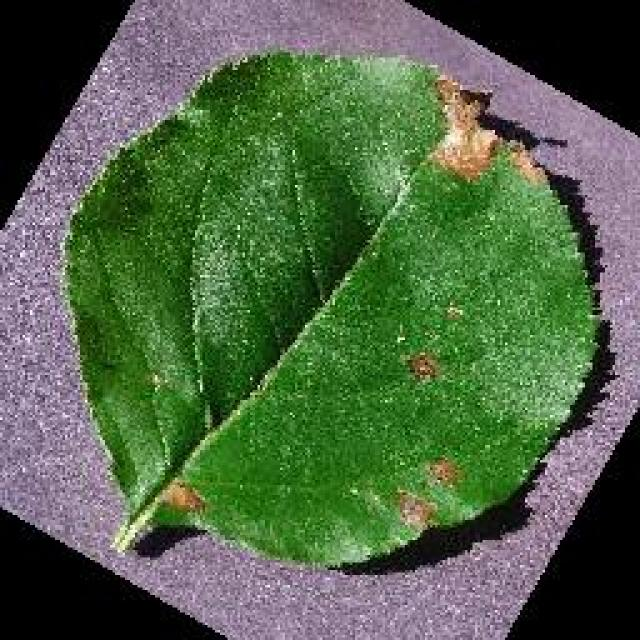Black_rot: (58, 48, 602, 570)
